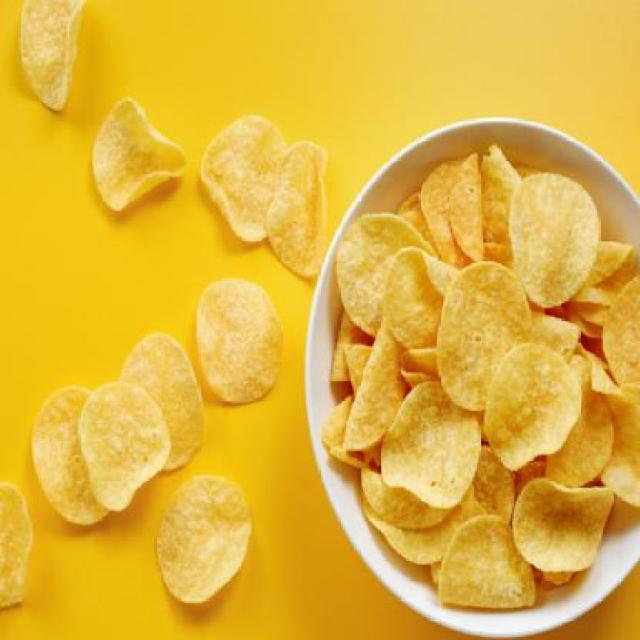Chips packaged: (394, 214, 608, 550), (74, 376, 175, 512), (156, 472, 256, 608), (89, 94, 189, 222), (193, 278, 290, 400)
